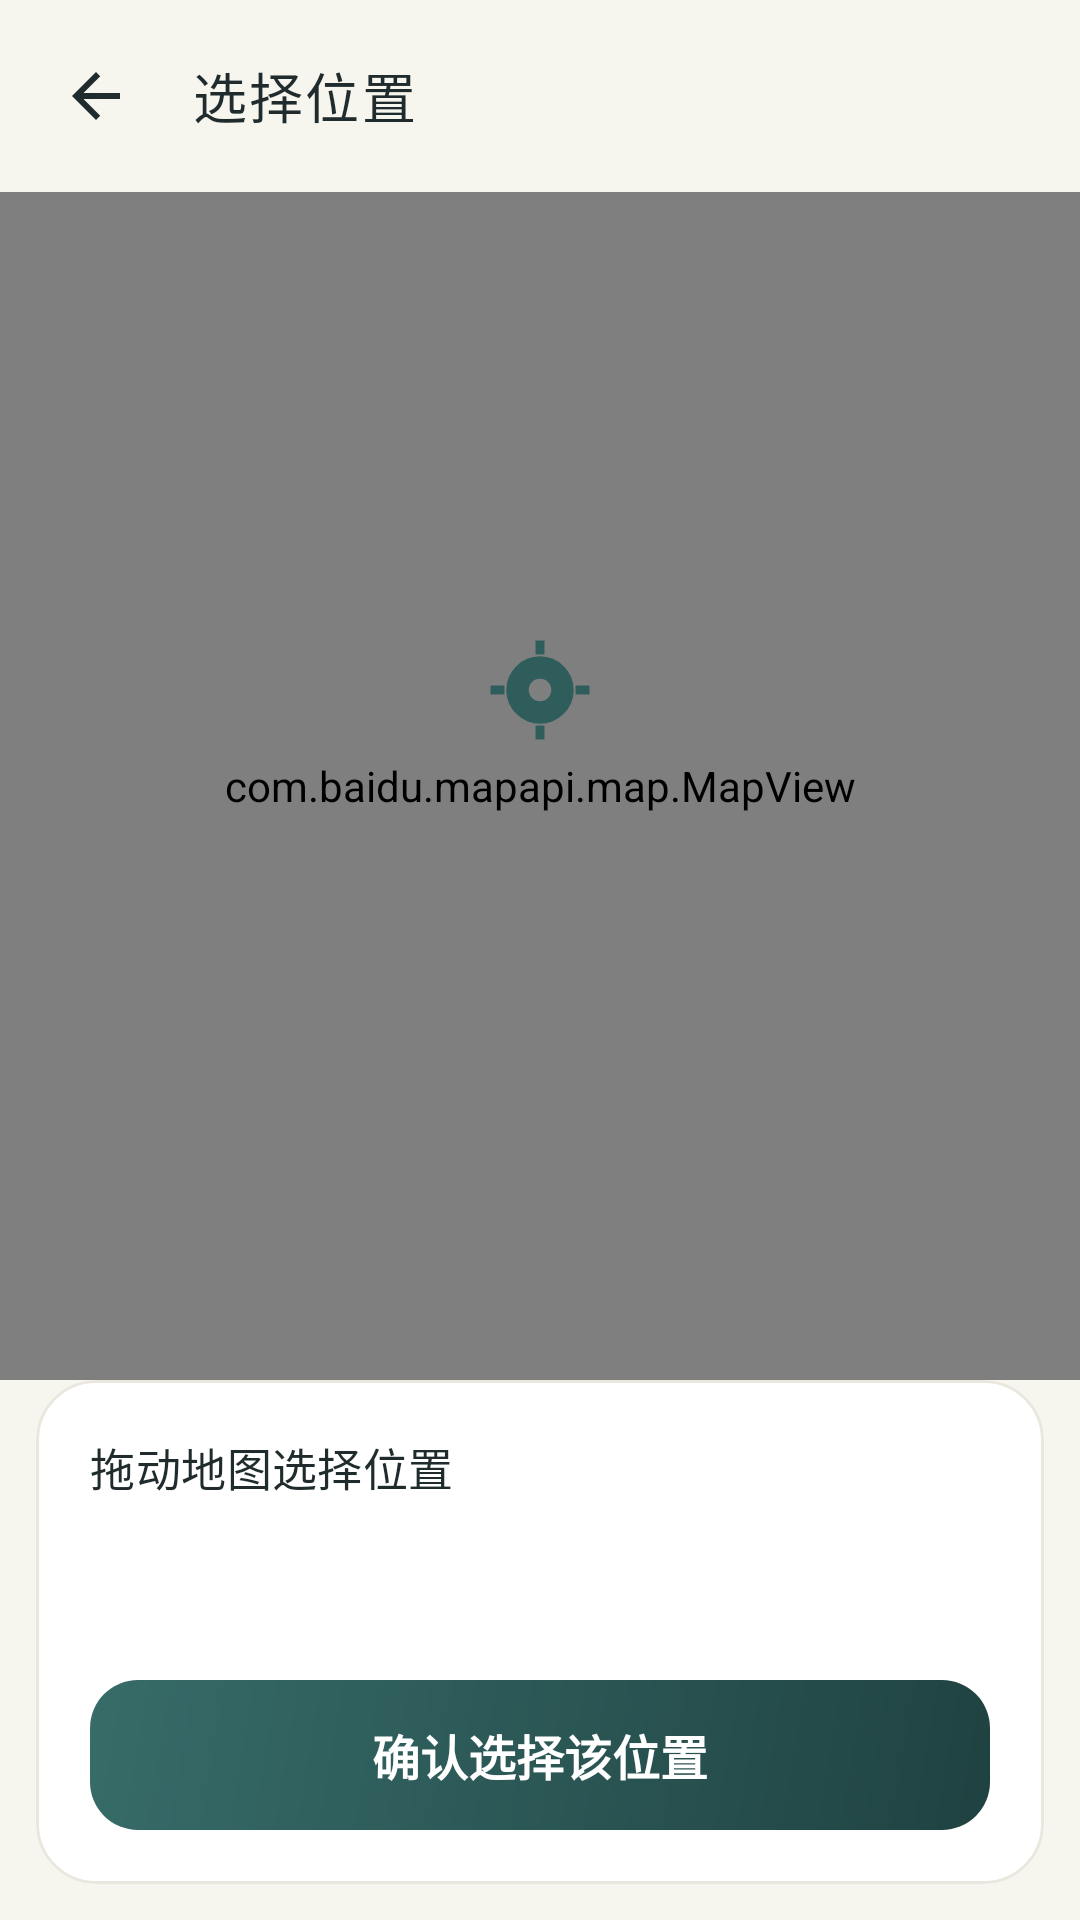

Locate icon controls on the screen. Image size 1080×1920, boxes as (x1, y1, x2, y2).
中心标记: (490, 640, 590, 740)
